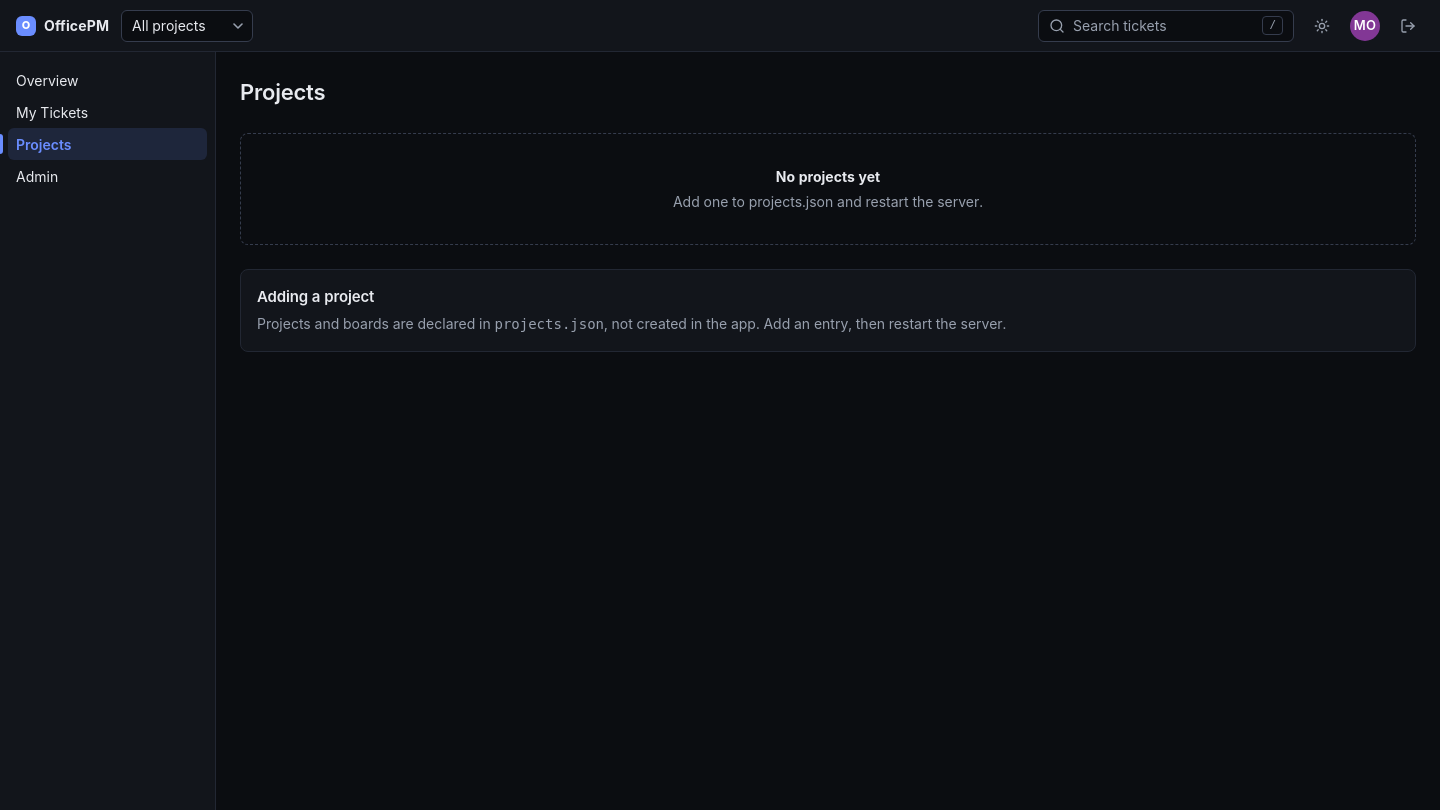
Test: changing your own password from the top bar › opens a dialog, saves, and says other devices were signed out
Click the button with aria-label "Change password": (1365, 26) [1350, 10, 1380, 40]
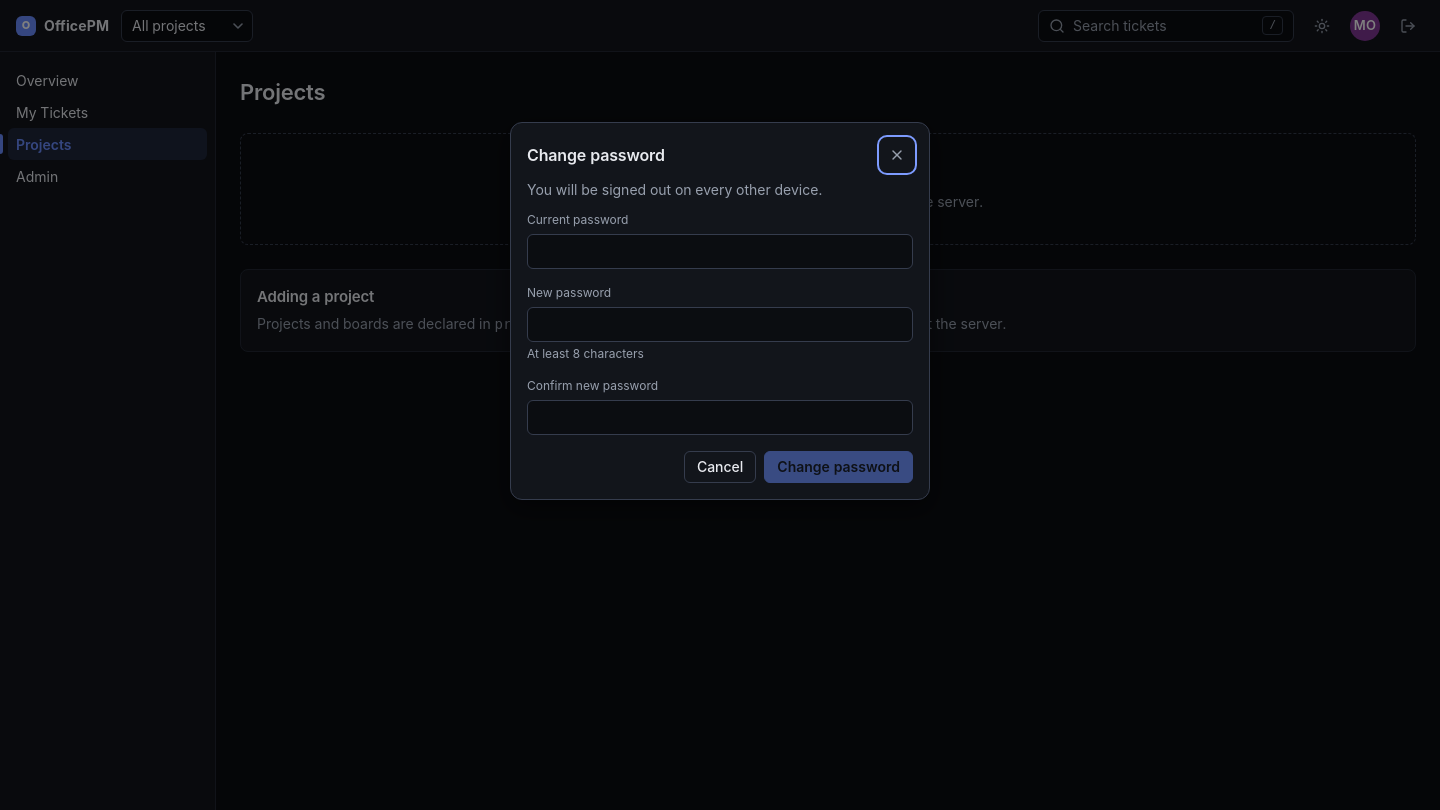
In the password field labelled "Current password": (720, 251) [527, 234, 913, 268], type "old-password"
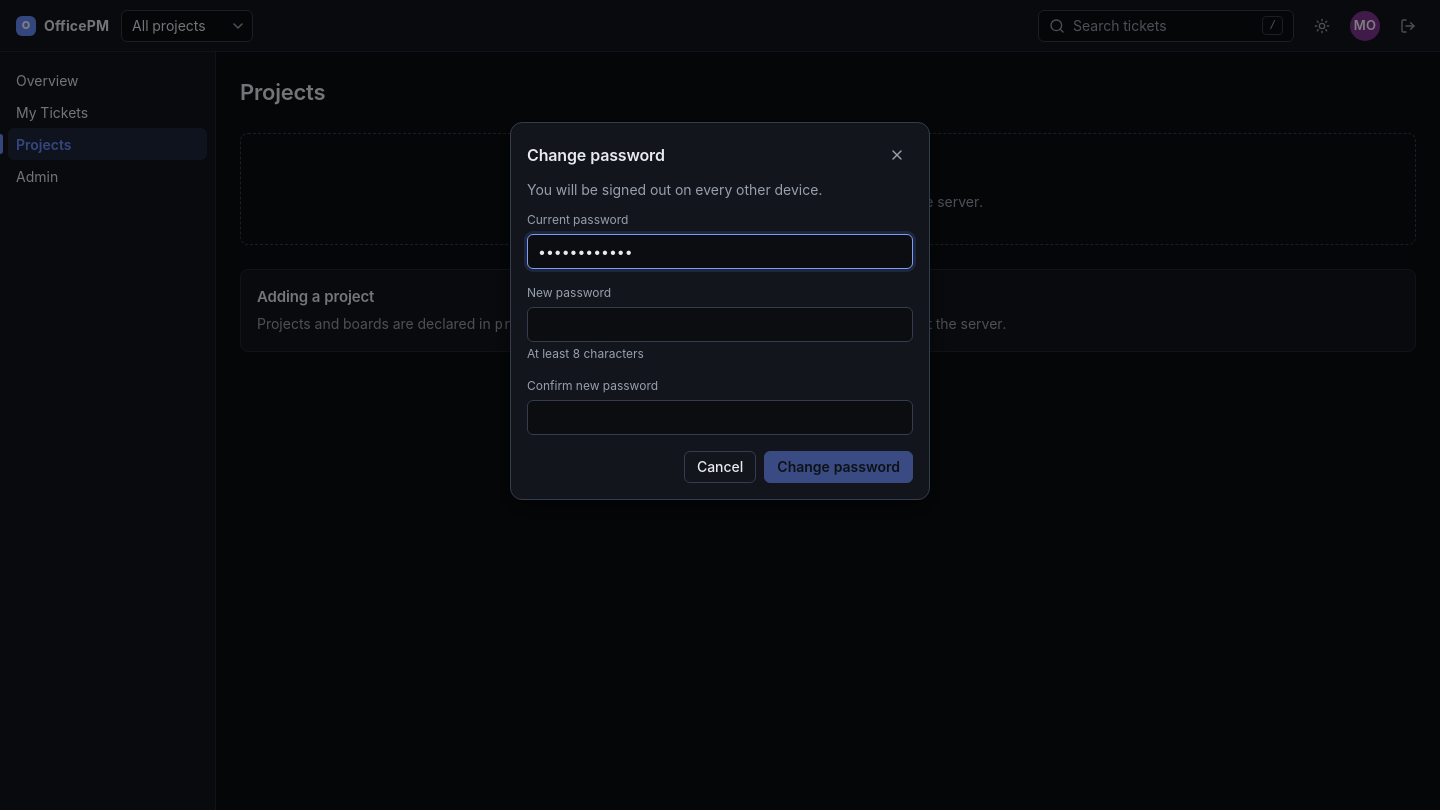
In the password field labelled "New password": (720, 324) [527, 306, 913, 342], type "new-password-1"
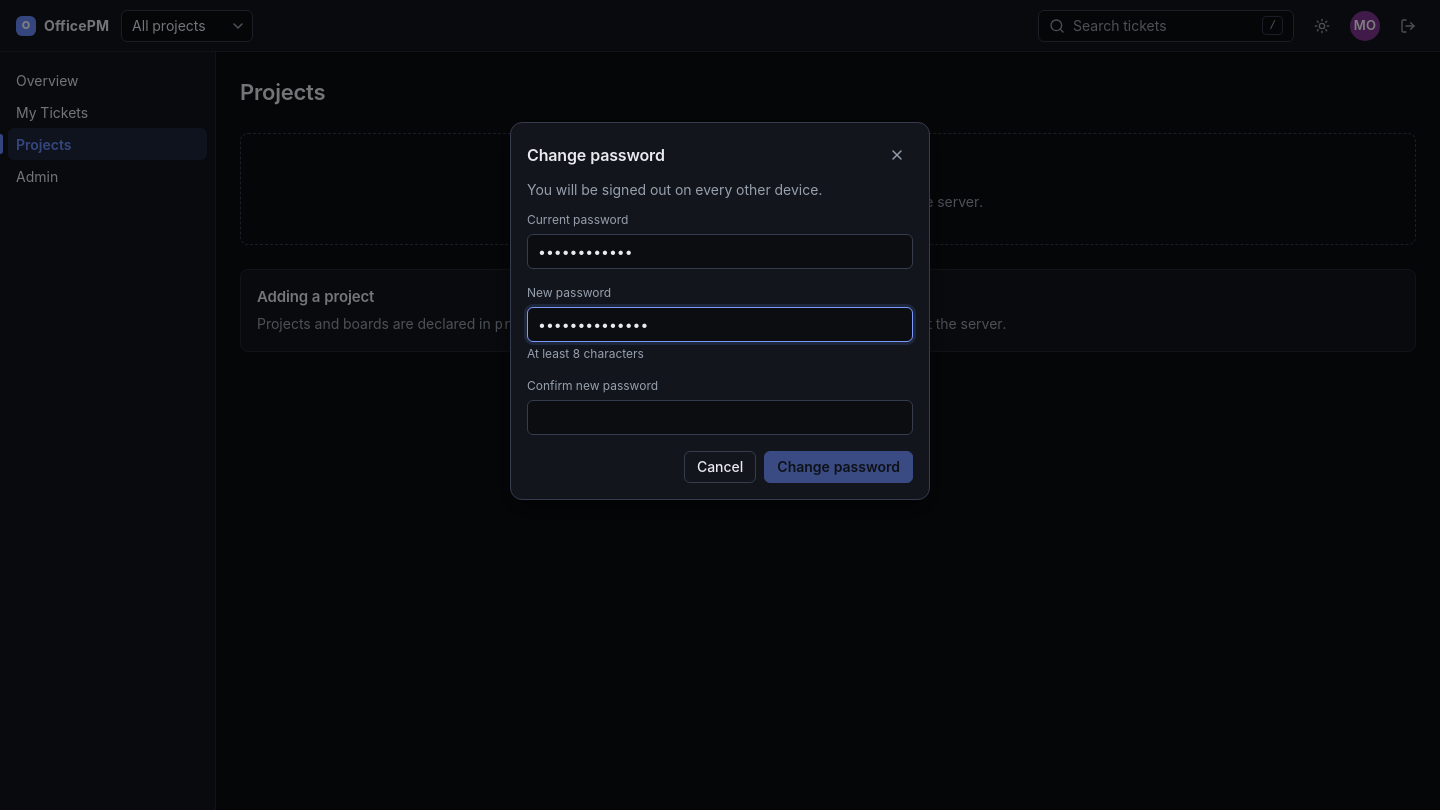
In the password field labelled "Confirm new password": (720, 417) [527, 400, 913, 434], type "new-password-1"
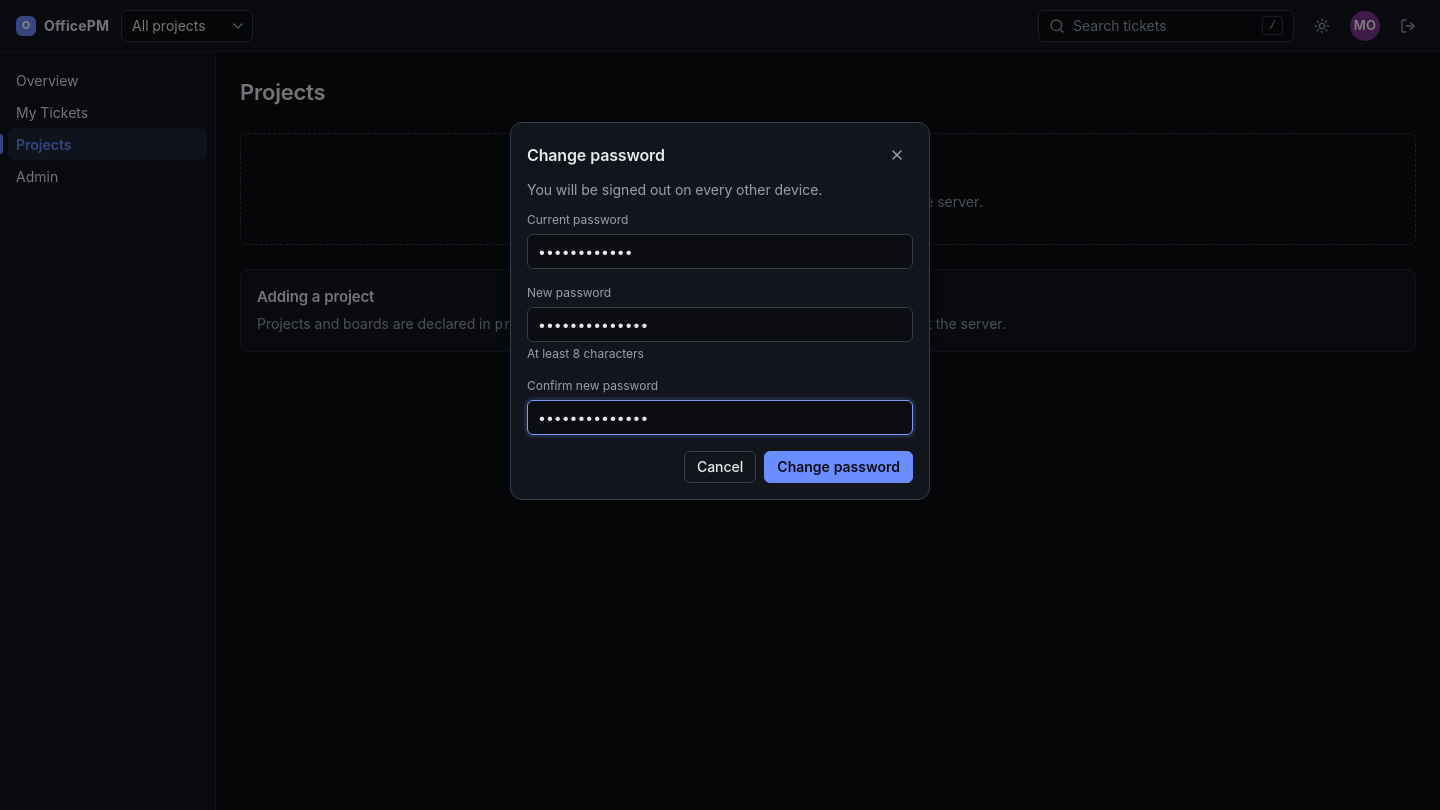
Click the button "Change password": (839, 466) [764, 450, 913, 482]
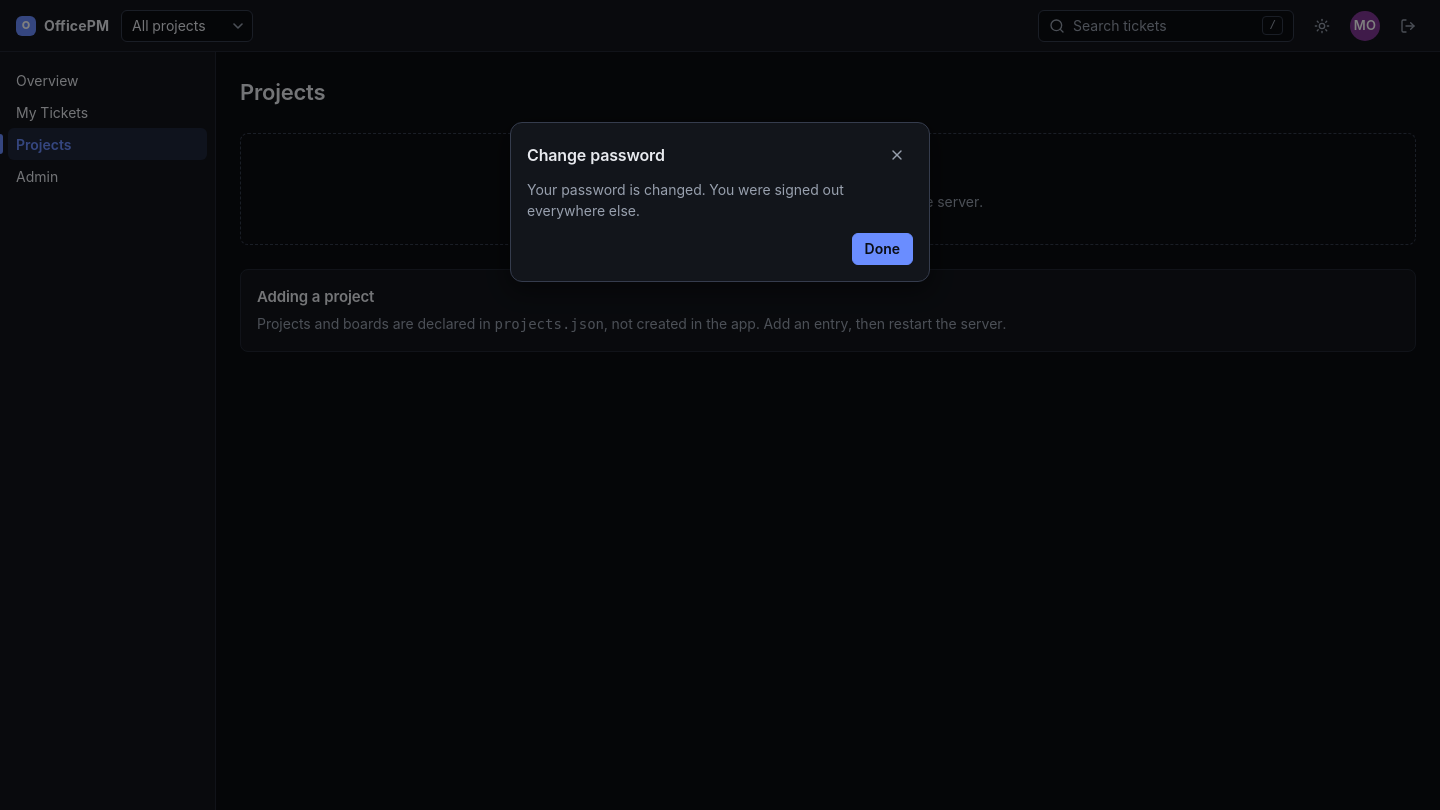
Expected: the text "signed out everywhere else" is shown, [527, 180, 844, 218]
Click the button "Done": (882, 248) [852, 232, 913, 264]
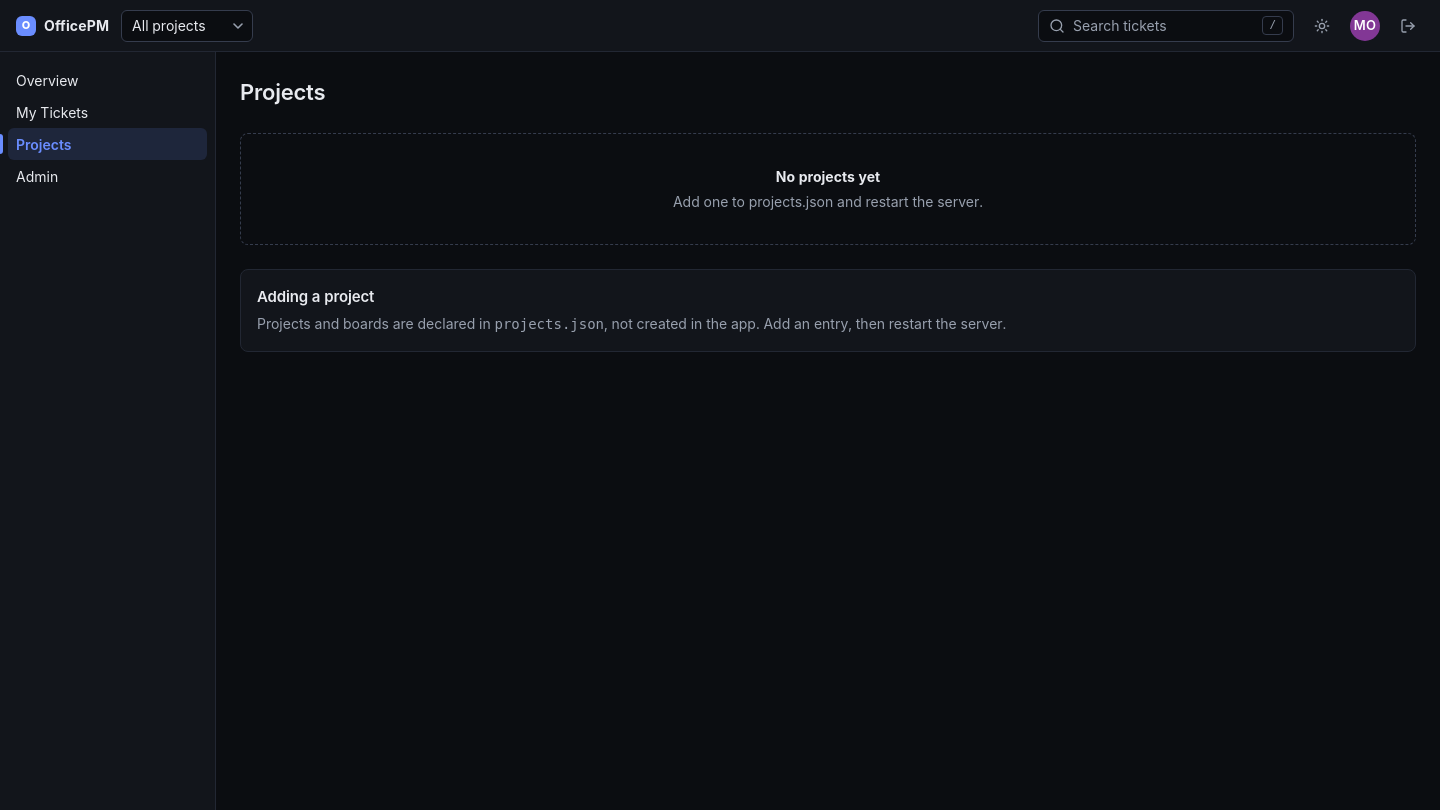
Expected: the dialog is gone
